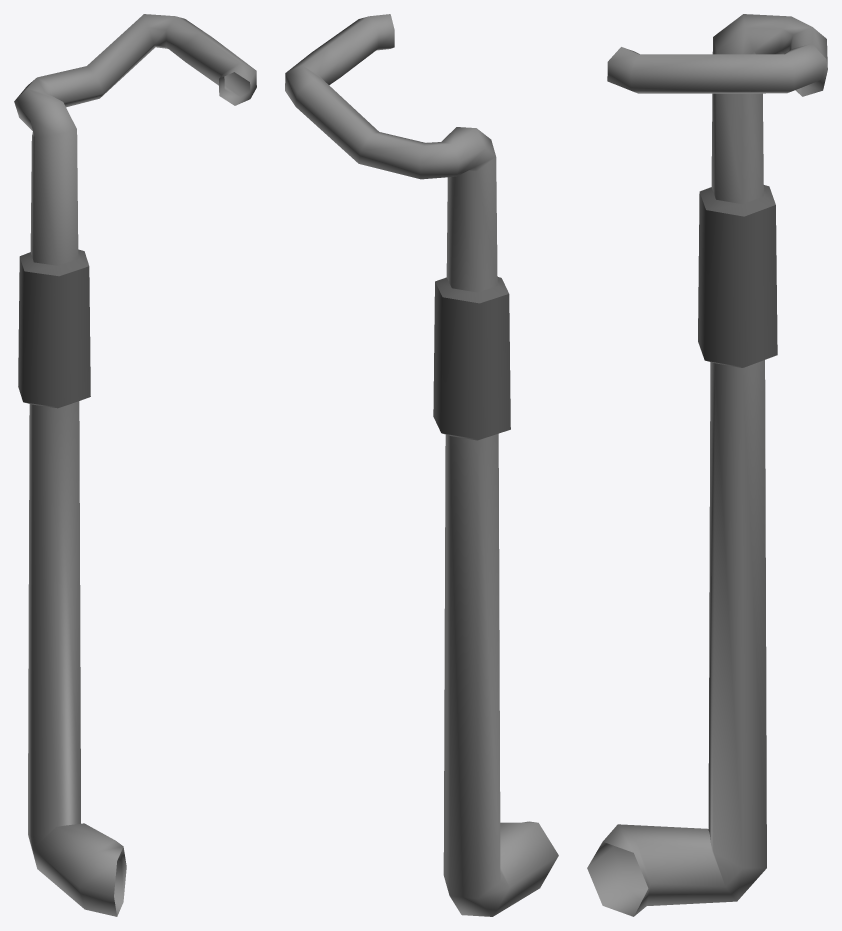
The model's file is CbpPipeProp A.fbx.
3 views of the same model, side by side, from view 1: azimuth 30°, elevation 25°; view 2: azimuth 150°, elevation 25°; view 3: azimuth 270°, elevation 25° (orthographic). The views are drawn at different scales.
Parts seen in each view (by area): view 1: PipeProps A; view 2: PipeProps A; view 3: PipeProps A.
Boxes of the visible parts, <box> form: PipeProps A: <box>14,14,256,916</box>; PipeProps A: <box>285,14,558,916</box>; PipeProps A: <box>587,14,827,916</box>.
Bounding box in the file's own units: 4.07 × 16.43 × 3.86.
